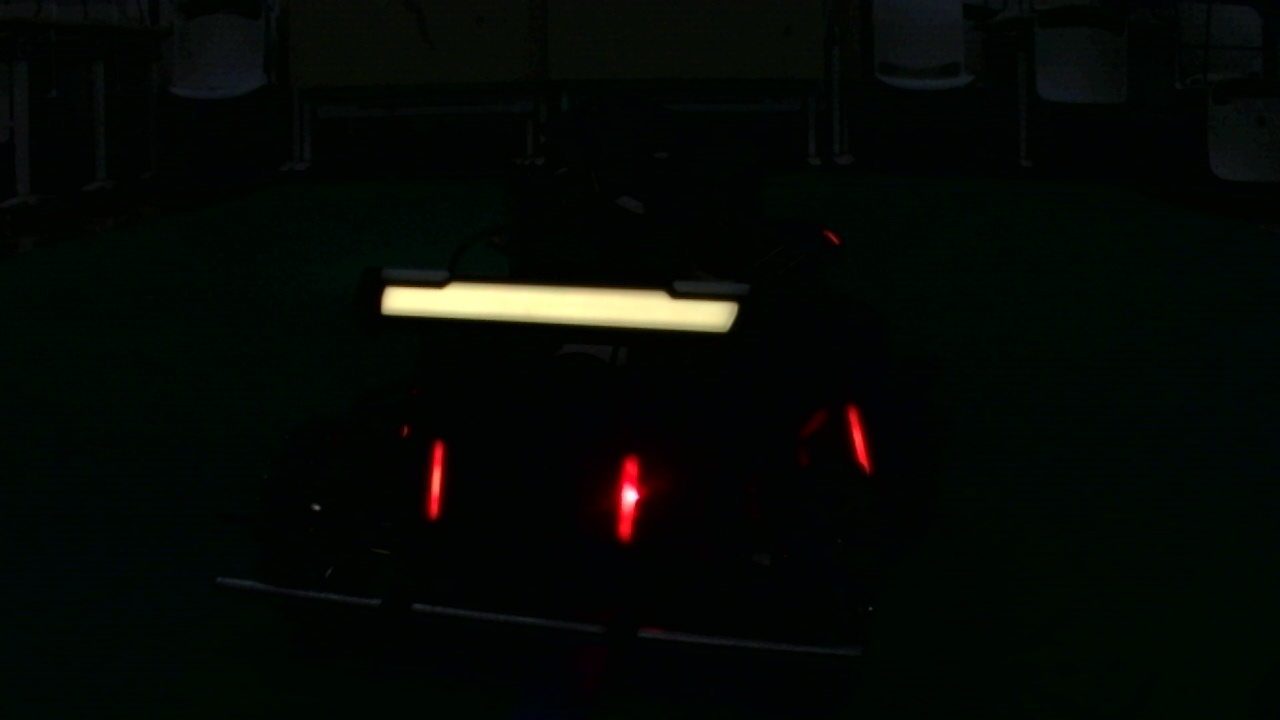lamp: (616, 446, 641, 542), (426, 434, 450, 519), (845, 397, 871, 475)
notpair1: (615, 401, 871, 543)
pair1: (424, 442, 643, 540)
